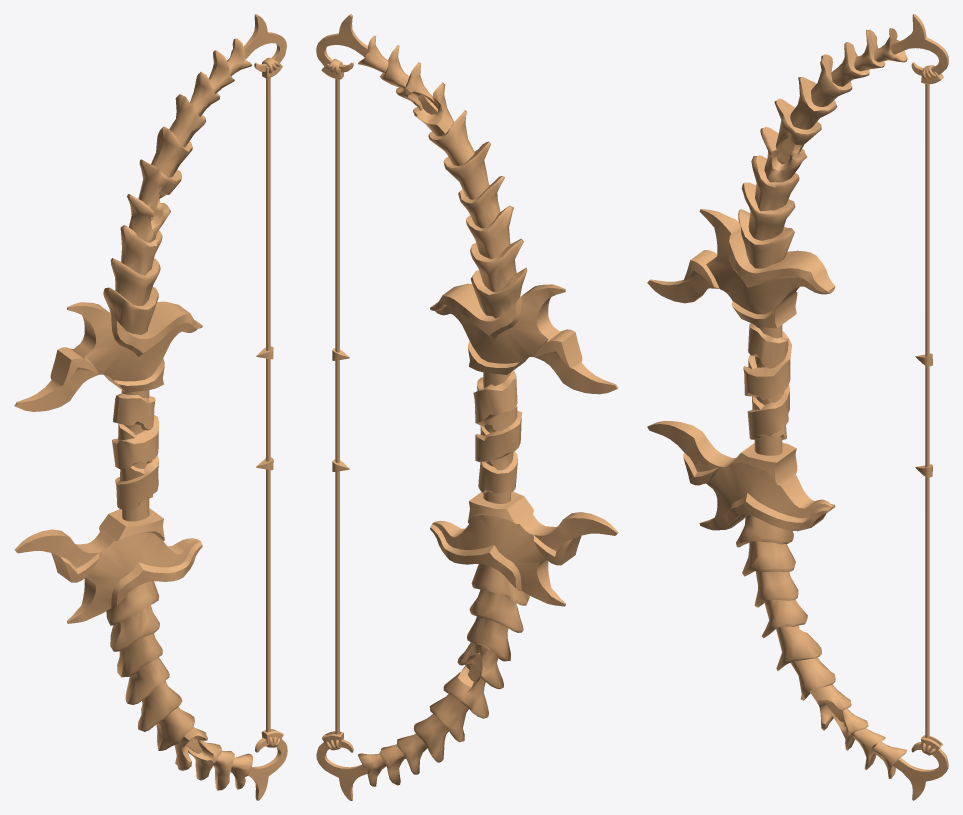
The model's file is SM_Undead_Bow_2.fbx.
3 views of the same model, side by side, from view 1: azimuth 30°, elevation 25°; view 2: azimuth 150°, elevation 25°; view 3: azimuth 330°, elevation 25° (orthographic).
Parts seen in each view (by area): view 1: SM_Undead_Bow_2; view 2: SM_Undead_Bow_2; view 3: SM_Undead_Bow_2.
Boxes of the visible parts, left/top/right/bottom form: SM_Undead_Bow_2: left=14, top=14, right=287, bottom=800; SM_Undead_Bow_2: left=316, top=14, right=618, bottom=800; SM_Undead_Bow_2: left=647, top=14, right=948, bottom=800.
Size of the model in its own units: 0.5113 by 1.34 by 0.1024.
